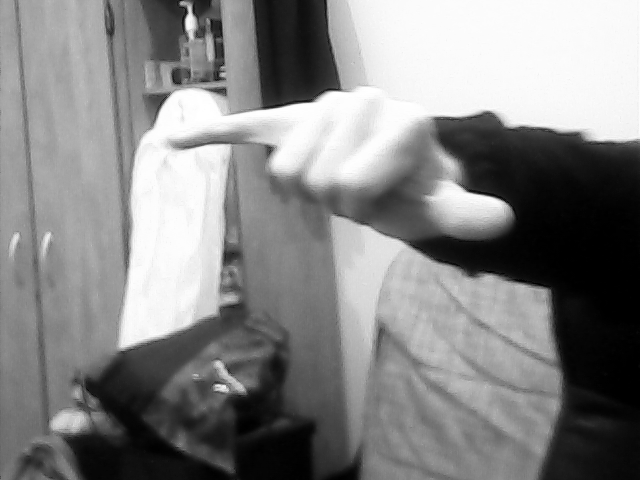aloha: (156, 81, 520, 256)
